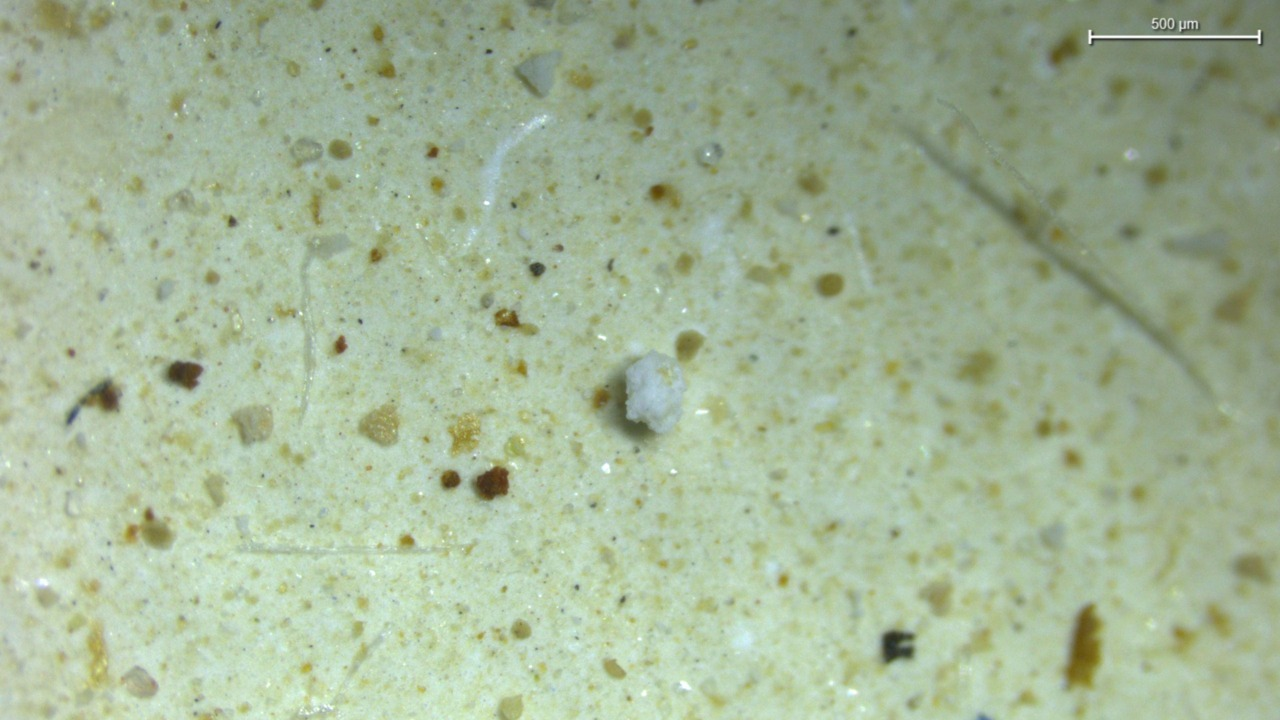microplastic_fragment: (625, 351, 686, 433), (516, 51, 560, 97)
